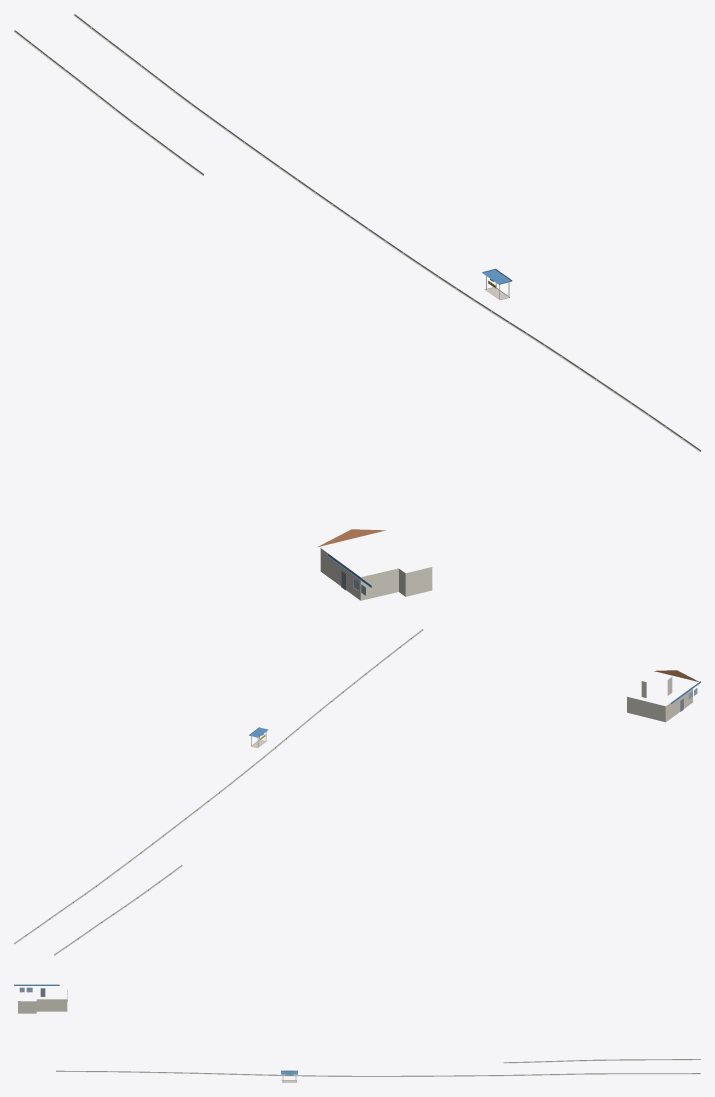
The model's file is nw_rd_arashi.glb.
3 renders of one model, top to bottom at view 1: azimuth 30°, elevation 25°; view 2: azimuth 150°, elevation 25°; view 3: azimuth 270°, elevation 25°, orthographic. The views are drawn at different scales.
Visible parts, largest first — view 1: nw_rd_arashi_lod0; view 2: nw_rd_arashi_lod0; view 3: nw_rd_arashi_lod0.
Part boxes in pixels (<box>): nw_rd_arashi_lod0: <box>14,14,700,600</box>; nw_rd_arashi_lod0: <box>14,629,700,955</box>; nw_rd_arashi_lod0: <box>14,984,700,1082</box>.
Size of what is drawn, in the model's own units: 53.81 by 5.94 by 153.
